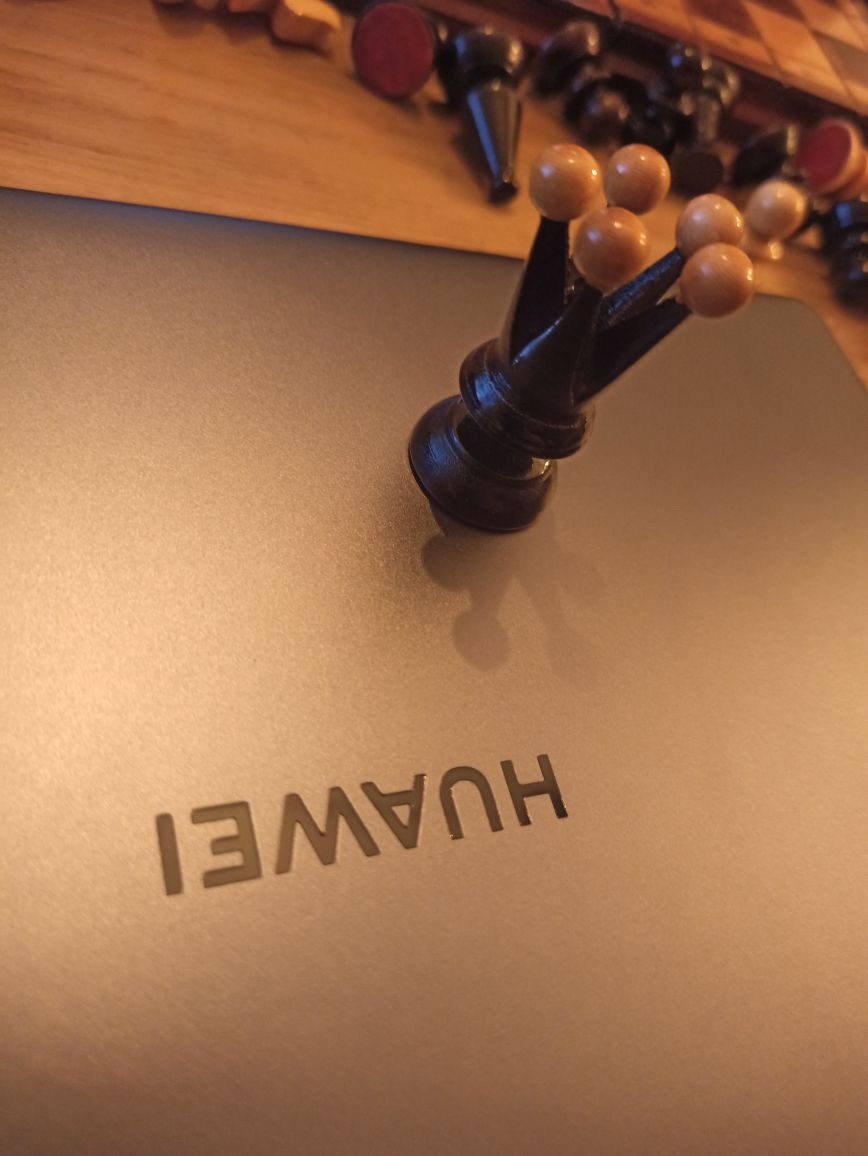bqueen: (407, 140, 757, 534)
